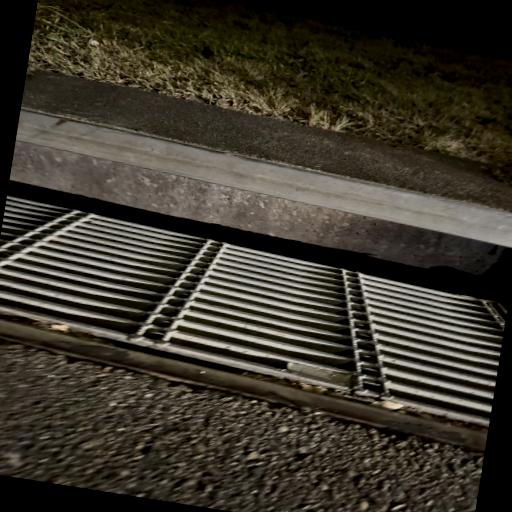kerb: (0, 107, 512, 428), (21, 70, 512, 213)
